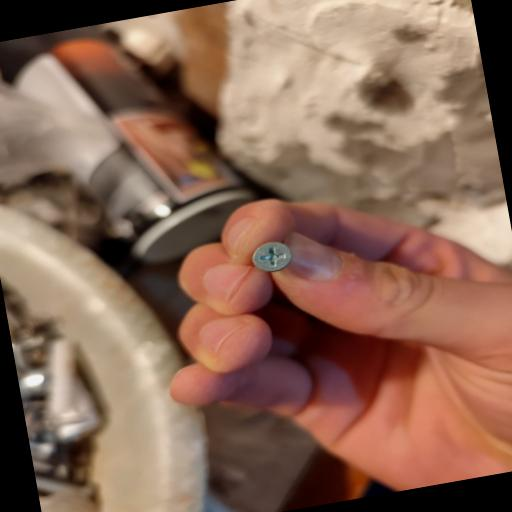Phillips: (244, 234, 309, 282)
